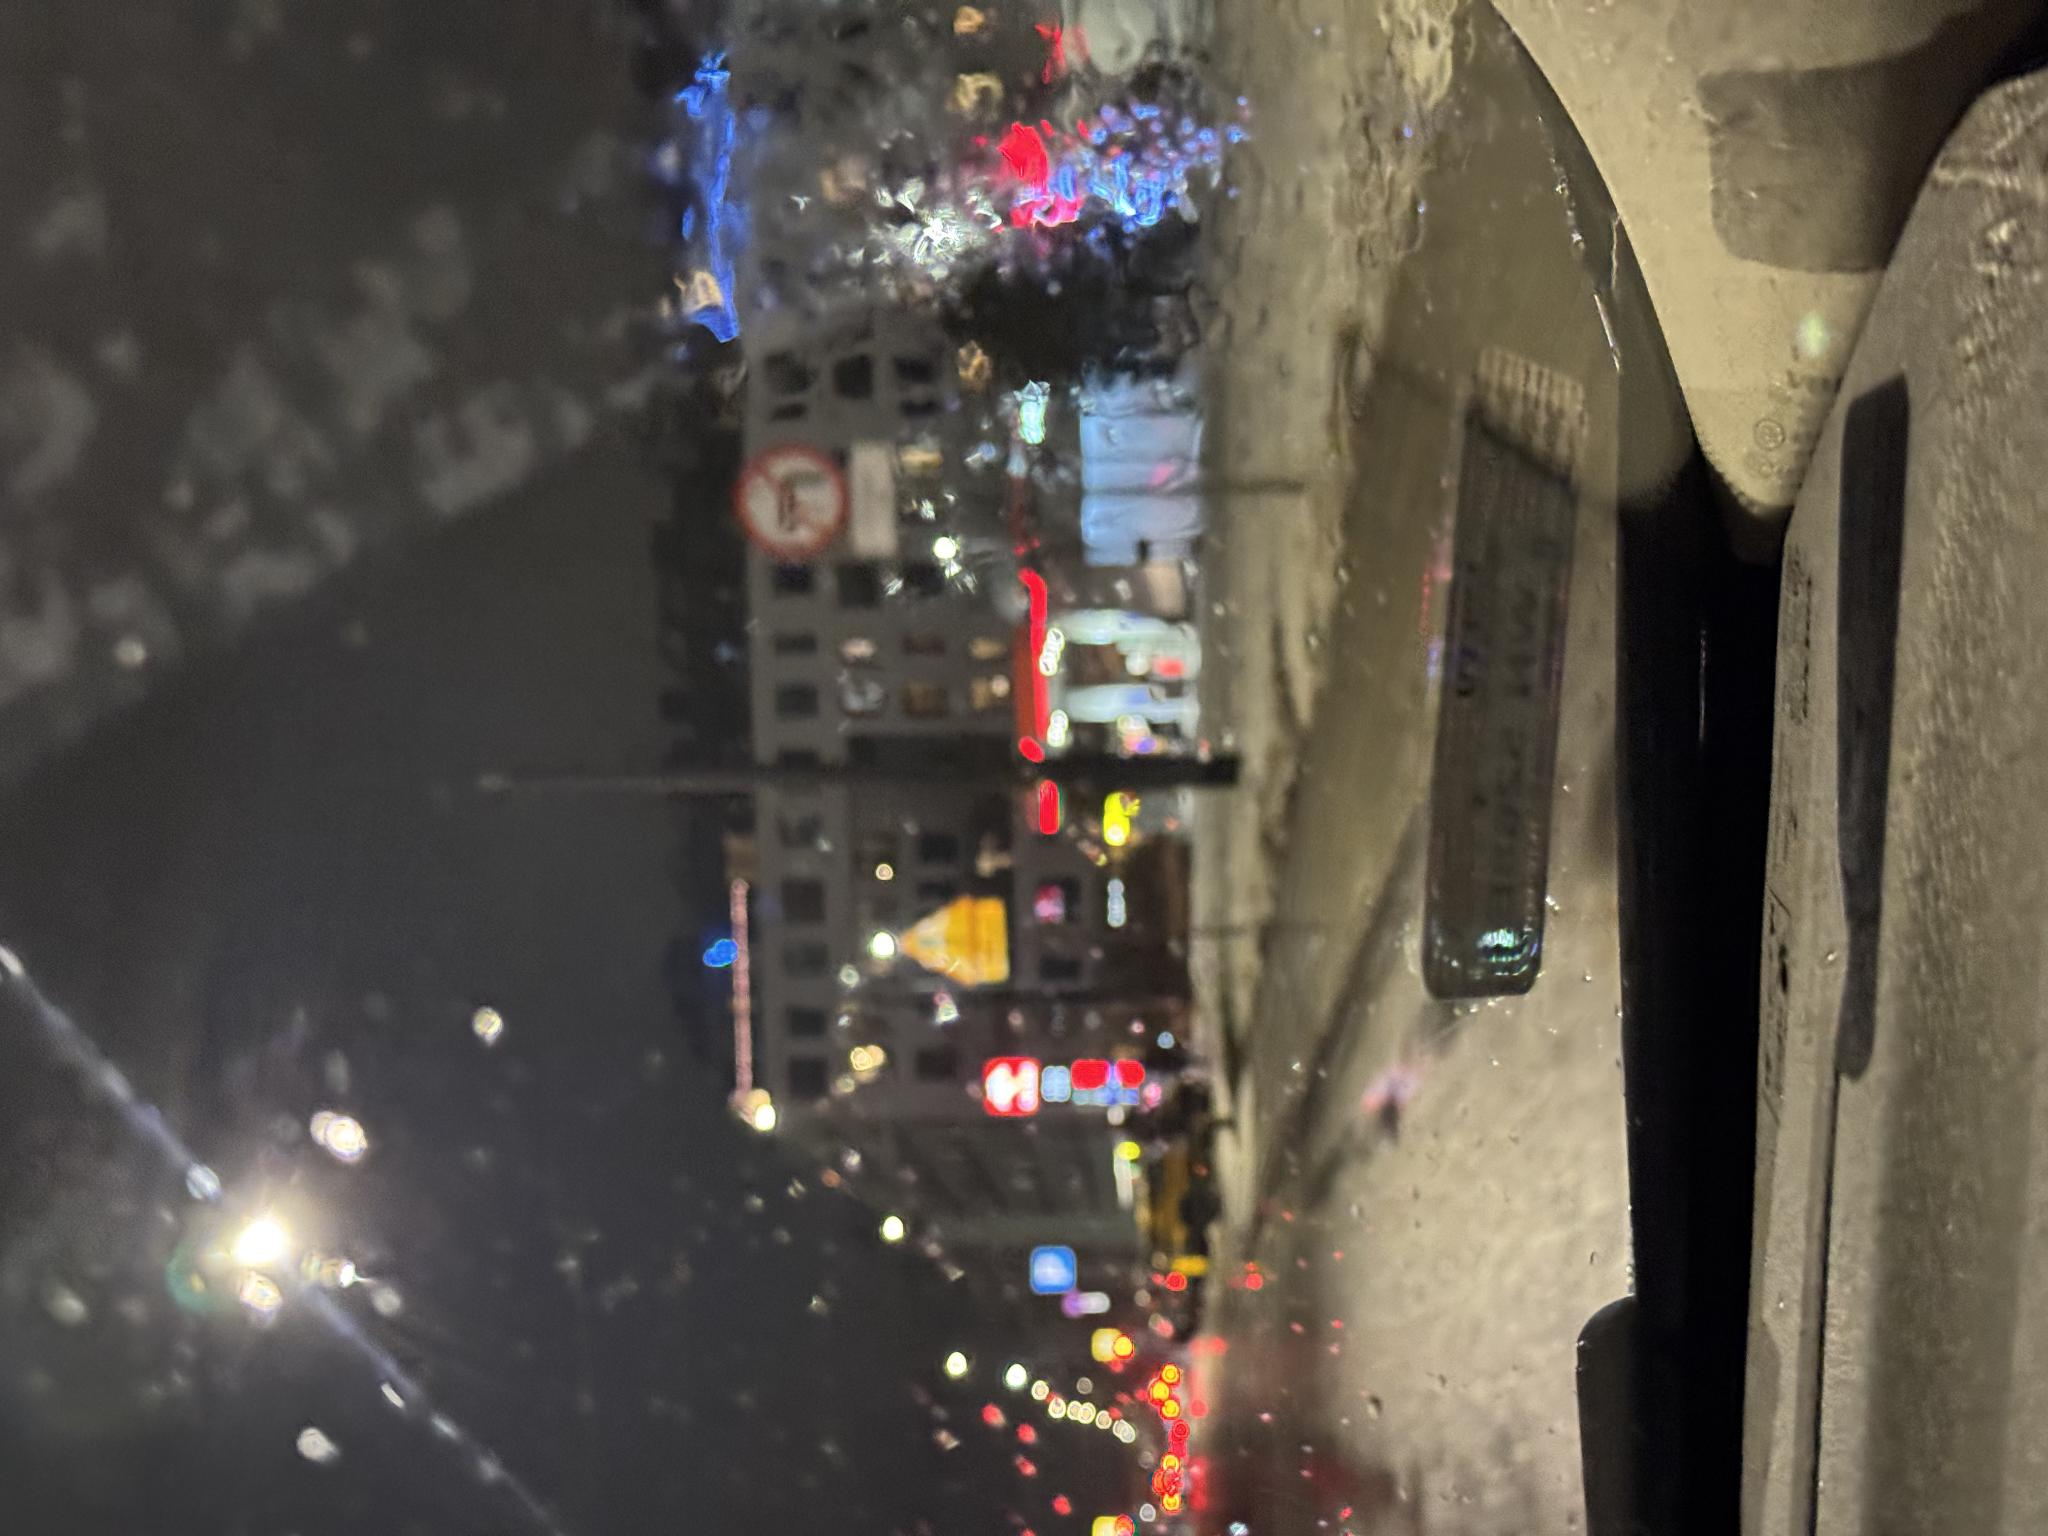prohibitory: (977, 731, 1092, 850)
